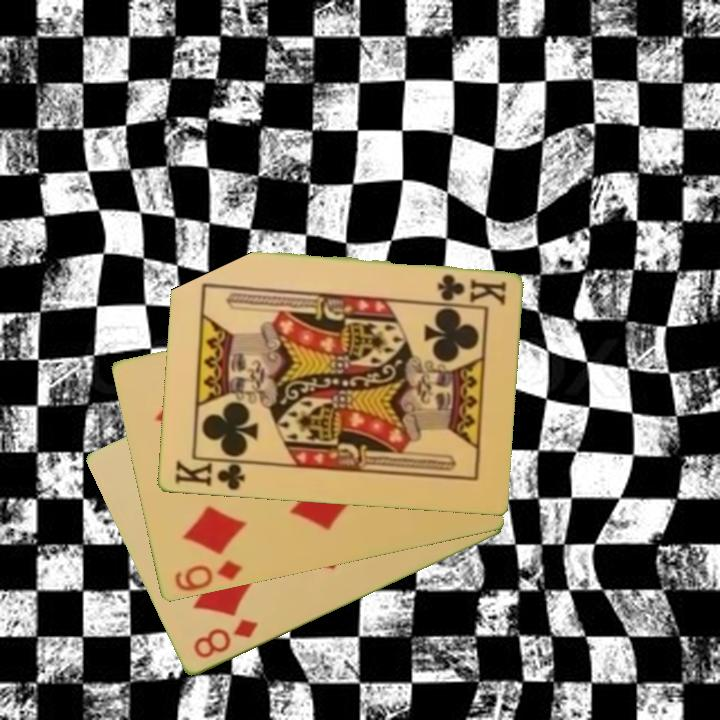6d: (170, 556, 245, 595)
8d: (189, 615, 261, 662)
Kc: (171, 456, 252, 494), (433, 271, 509, 306)
